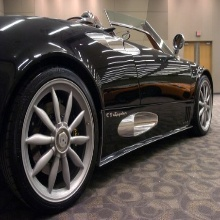no damage: (1, 10, 212, 209)
